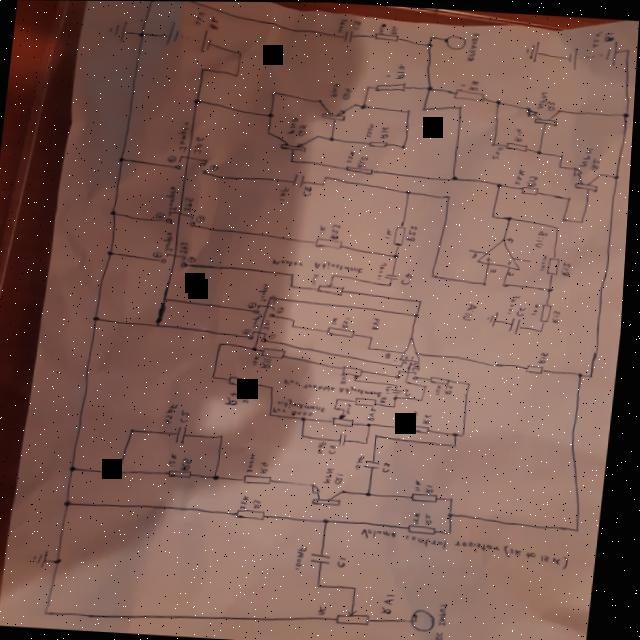capacitor: (314, 553, 337, 565), (292, 172, 309, 188), (177, 426, 192, 444), (511, 317, 525, 336), (368, 458, 386, 469), (387, 273, 403, 280), (344, 30, 353, 42), (343, 433, 351, 445), (395, 387, 408, 394)
ground: (107, 21, 127, 43), (522, 39, 540, 63), (37, 549, 55, 568), (489, 311, 501, 327)
junction: (60, 558, 69, 564), (289, 158, 298, 164), (320, 181, 329, 187), (580, 371, 587, 378), (120, 469, 128, 475), (579, 527, 587, 533), (452, 512, 459, 518), (622, 112, 630, 117), (133, 428, 141, 433), (328, 518, 336, 523), (97, 316, 103, 322), (395, 253, 401, 259), (371, 491, 377, 497), (109, 250, 115, 256), (416, 313, 423, 318), (457, 432, 464, 437), (223, 434, 229, 439), (323, 583, 329, 588), (70, 501, 76, 506), (218, 475, 225, 479), (138, 33, 145, 37), (74, 467, 81, 471), (50, 611, 57, 615), (194, 99, 201, 103), (269, 114, 275, 118), (427, 87, 433, 91), (406, 109, 412, 113), (452, 530, 458, 534), (615, 175, 621, 179), (378, 434, 384, 438), (359, 586, 365, 590), (421, 299, 427, 303), (457, 443, 463, 447), (625, 48, 631, 52), (453, 497, 459, 501), (370, 423, 376, 427), (112, 211, 118, 215), (422, 398, 428, 402), (509, 216, 514, 220), (471, 382, 476, 386), (235, 73, 240, 77), (325, 175, 330, 179), (166, 298, 171, 302), (369, 440, 374, 444), (292, 273, 297, 277), (390, 283, 395, 287), (120, 158, 125, 162), (427, 385, 432, 389), (551, 288, 555, 292), (428, 44, 432, 48), (499, 183, 503, 187), (408, 190, 412, 194), (331, 136, 335, 140), (497, 100, 501, 104), (403, 144, 407, 148), (200, 68, 204, 72), (423, 107, 427, 111), (238, 51, 242, 55), (455, 176, 459, 180), (459, 106, 463, 110), (366, 86, 371, 89), (593, 375, 598, 378), (539, 150, 543, 153), (569, 197, 573, 200), (448, 195, 452, 198), (505, 283, 509, 286), (292, 285, 296, 288), (434, 274, 438, 277), (306, 417, 310, 420), (363, 105, 367, 108), (334, 275, 338, 278), (256, 348, 260, 351), (272, 296, 276, 299), (466, 433, 470, 436), (271, 92, 276, 94), (149, 1, 154, 3), (561, 154, 564, 157), (564, 219, 568, 221), (494, 215, 498, 217), (370, 347, 374, 349), (347, 409, 351, 411), (274, 386, 278, 388), (357, 379, 361, 381), (399, 385, 403, 387), (408, 380, 412, 382), (582, 220, 585, 222), (543, 330, 546, 332), (560, 166, 563, 168), (486, 283, 489, 285), (296, 320, 299, 322), (294, 325, 297, 327), (340, 398, 343, 400), (216, 376, 219, 378), (223, 343, 226, 345), (374, 336, 377, 338), (559, 226, 562, 228), (492, 143, 495, 145), (307, 435, 309, 437), (339, 408, 341, 410), (397, 405, 399, 407), (398, 397, 400, 399), (274, 414, 276, 416), (430, 37, 432, 39)
resistor: (341, 609, 379, 628), (318, 280, 350, 297), (328, 324, 359, 341), (453, 88, 487, 102), (239, 508, 273, 521), (340, 364, 368, 379), (342, 165, 377, 176), (375, 81, 407, 93), (231, 375, 258, 389), (335, 413, 361, 427), (413, 523, 443, 535), (549, 254, 564, 276), (247, 474, 276, 485), (415, 492, 444, 503), (316, 238, 345, 249), (371, 31, 399, 42), (394, 225, 408, 246), (543, 302, 557, 322), (520, 185, 543, 197), (431, 375, 456, 386), (171, 469, 198, 479), (265, 348, 289, 359), (506, 141, 530, 152), (529, 364, 549, 374), (415, 424, 435, 434), (359, 397, 381, 406), (369, 140, 390, 147)
source: (563, 37, 621, 72), (164, 21, 214, 55)
switch: (176, 155, 210, 175), (165, 209, 199, 227), (163, 252, 191, 268), (398, 369, 424, 380), (256, 305, 279, 317), (252, 331, 271, 342)
terminal: (531, 259, 536, 261), (471, 249, 475, 251)
text: (363, 527, 578, 569), (285, 379, 387, 396), (273, 257, 368, 274), (282, 399, 332, 412), (442, 601, 458, 640), (466, 31, 482, 62), (178, 121, 192, 152), (276, 406, 318, 416), (166, 186, 181, 213), (463, 303, 483, 322), (386, 592, 402, 615), (300, 545, 314, 570), (168, 403, 183, 425), (259, 282, 273, 302), (192, 10, 208, 27), (408, 224, 421, 243), (590, 29, 603, 48), (251, 453, 263, 473), (370, 316, 385, 332), (165, 232, 177, 252), (328, 467, 341, 485), (552, 306, 565, 324), (229, 391, 244, 406), (330, 224, 344, 240), (194, 136, 206, 154), (582, 147, 594, 165), (511, 295, 523, 313), (379, 262, 391, 280), (288, 117, 300, 134), (402, 272, 416, 286), (395, 63, 407, 79), (279, 186, 291, 202), (208, 15, 220, 31), (516, 168, 527, 185), (538, 231, 549, 248), (183, 409, 196, 423), (526, 175, 540, 188), (244, 495, 256, 510), (563, 261, 575, 276), (514, 127, 526, 142), (330, 82, 341, 98), (493, 145, 504, 160), (185, 196, 195, 212), (538, 92, 548, 108), (366, 122, 376, 138), (180, 241, 192, 254), (541, 351, 553, 364), (303, 184, 315, 197), (342, 87, 354, 100), (264, 461, 276, 474), (428, 512, 440, 525), (339, 471, 350, 485), (360, 454, 370, 469), (517, 305, 529, 317), (311, 273, 322, 286), (602, 31, 615, 42), (386, 460, 397, 473), (343, 316, 354, 329), (172, 454, 183, 467), (264, 358, 277, 369), (371, 407, 381, 421), (415, 410, 425, 424), (255, 314, 265, 328), (418, 478, 428, 492), (319, 224, 331, 235), (425, 413, 436, 425), (358, 157, 370, 168), (429, 483, 441, 494), (321, 441, 331, 454), (417, 512, 427, 525), (338, 19, 347, 33), (247, 390, 256, 404), (468, 80, 479, 91), (447, 384, 458, 395), (343, 557, 354, 568), (380, 126, 390, 138), (187, 458, 197, 470), (377, 22, 387, 34), (156, 211, 169, 220), (342, 373, 352, 384), (407, 387, 418, 397), (332, 443, 342, 454), (437, 384, 447, 395), (323, 606, 334, 616), (534, 302, 543, 314), (543, 255, 550, 270), (332, 316, 342, 326), (593, 158, 602, 169), (299, 124, 308, 135), (255, 355, 264, 366), (197, 215, 208, 224), (348, 151, 356, 163), (386, 228, 395, 238), (266, 320, 275, 330), (272, 295, 280, 305), (211, 164, 221, 172), (547, 101, 555, 110), (190, 256, 199, 264), (156, 251, 166, 258), (350, 403, 356, 414), (507, 271, 518, 277), (416, 363, 424, 371), (352, 21, 360, 29), (259, 500, 267, 508), (383, 396, 392, 403), (491, 268, 500, 274), (387, 352, 396, 358), (389, 385, 395, 394), (169, 156, 178, 162), (251, 302, 260, 308), (271, 333, 280, 339), (392, 26, 398, 34), (279, 307, 287, 313), (246, 328, 254, 334), (487, 256, 495, 262), (509, 259, 515, 266), (508, 238, 515, 242), (475, 253, 480, 257), (415, 355, 419, 360), (408, 355, 413, 359), (407, 361, 411, 363), (414, 363, 418, 365)
transistor: (264, 130, 319, 155), (318, 99, 356, 124), (314, 484, 353, 508), (524, 105, 563, 127), (573, 168, 603, 191)
